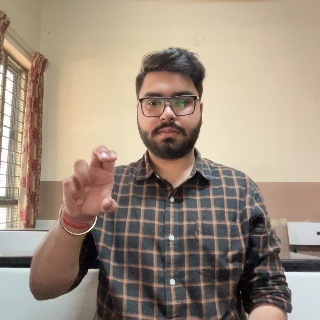Face: (136, 54, 201, 157)
No: (62, 145, 120, 239)
